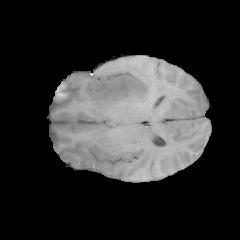glioma: (88, 72, 167, 107)
